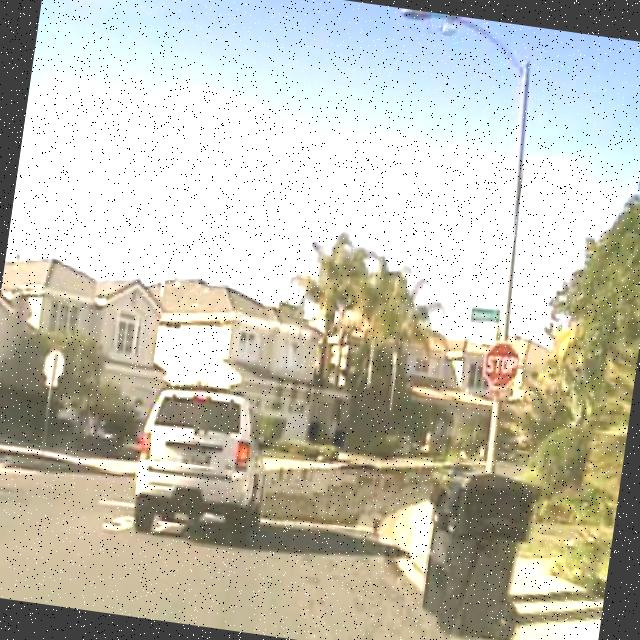Stop: (480, 338, 522, 390)
